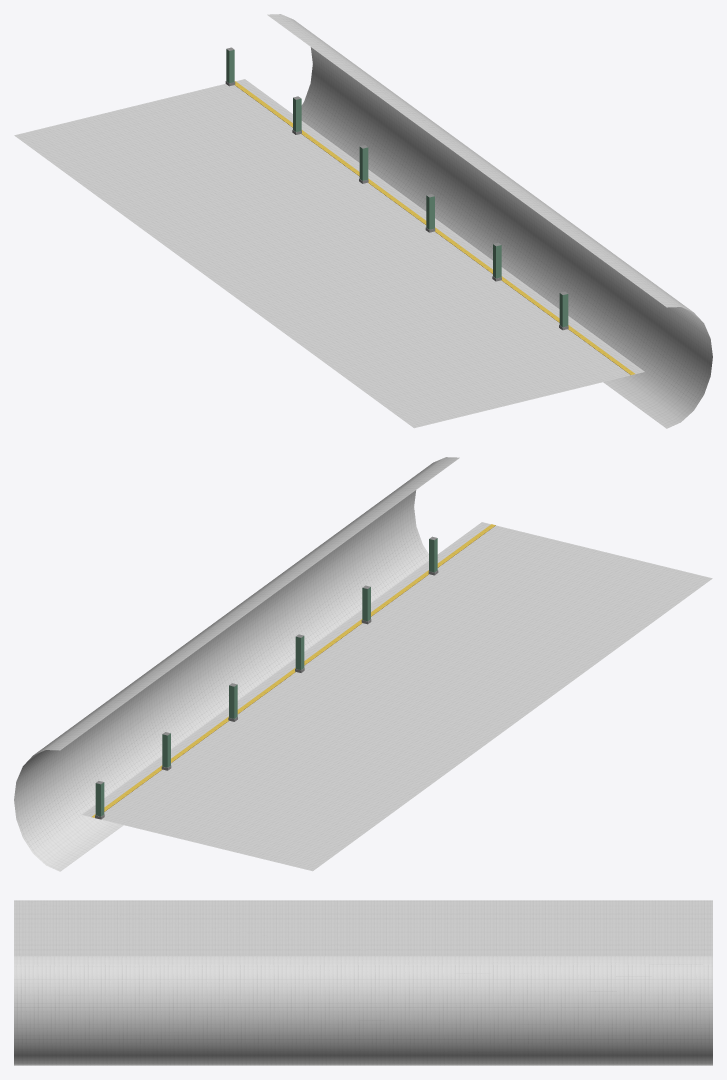
The model's file is Background.fbx.
The picture shows the model from 3 angles, top to bottom: view 1: azimuth 30°, elevation 25°; view 2: azimuth 150°, elevation 25°; view 3: azimuth 270°, elevation 25°; orthographic projection. The views are drawn at different scales.
Visible parts, largest first — view 1: Floor, Tunnel, Pillar, Yellow_Pink_Tile1; view 2: Floor, Tunnel, Pillar, Yellow_Pink_Tile1; view 3: Tunnel, Floor.
Part boxes in pixels (x1=…): Floor: x1=14, y1=79, x2=644, y2=428; Tunnel: x1=267, y1=14, x2=712, y2=428; Pillar: x1=225, y1=47, x2=568, y2=330; Yellow_Pink_Tile1: x1=235, y1=81, x2=634, y2=374; Floor: x1=82, y1=522, x2=712, y2=871; Tunnel: x1=14, y1=457, x2=459, y2=871; Pillar: x1=95, y1=536, x2=438, y2=819; Yellow_Pink_Tile1: x1=92, y1=524, x2=495, y2=817; Tunnel: x1=14, y1=956, x2=712, y2=1065; Floor: x1=14, y1=900, x2=712, y2=956.
Size of the model in its own units: 129 by 50.2 by 300.
Materials: 6 (4 with a texture image).
